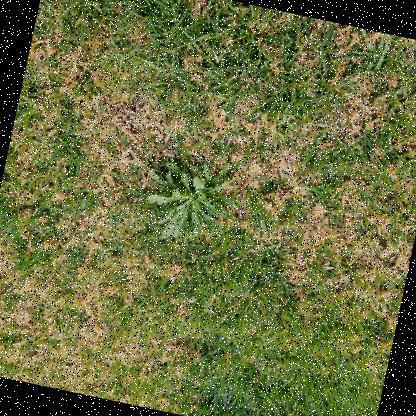Weeds: (136, 149, 253, 256)
